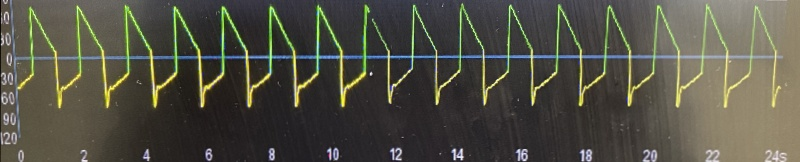peepi: (11, 0, 797, 113)
